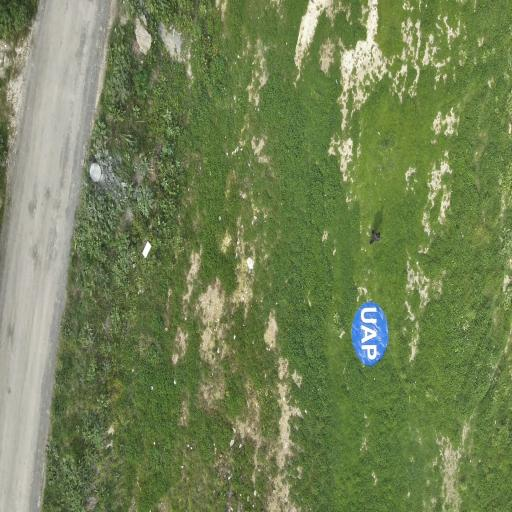person: (370, 229, 380, 244)
uap: (351, 302, 388, 366)
